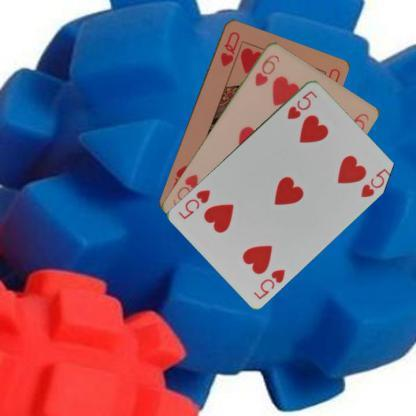5h: (250, 266, 286, 300), (284, 87, 319, 120)
6h: (252, 51, 282, 87)
Qh: (218, 28, 240, 68)
